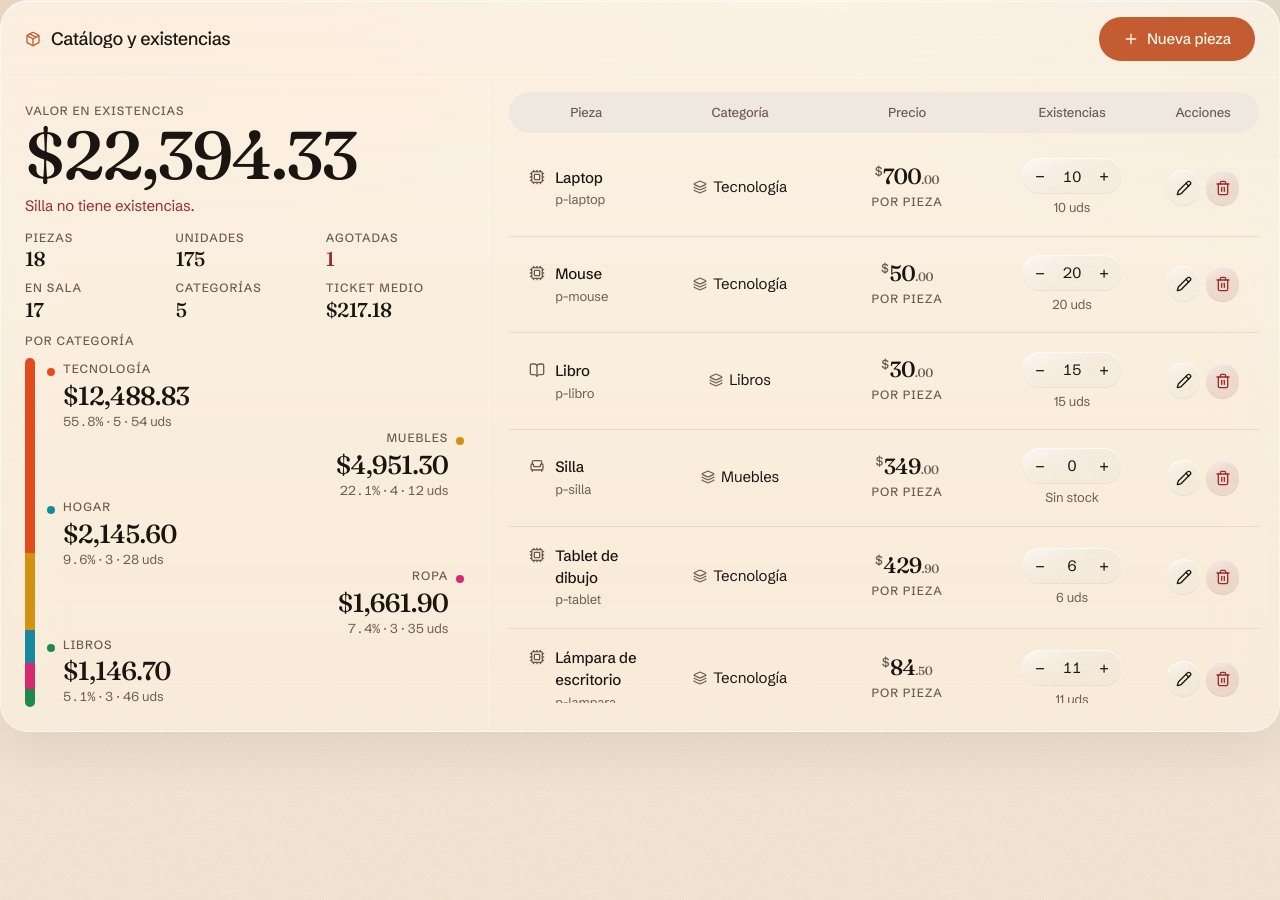
it: ProductDesk › edits name and price of an existing piece
Expected: the text "p-libro" is shown, top-left (555, 384), bottom-right (594, 402)
Click the button named "Editar Libro" at (1184, 381), box top-left (1167, 363), bottom-right (1200, 399)
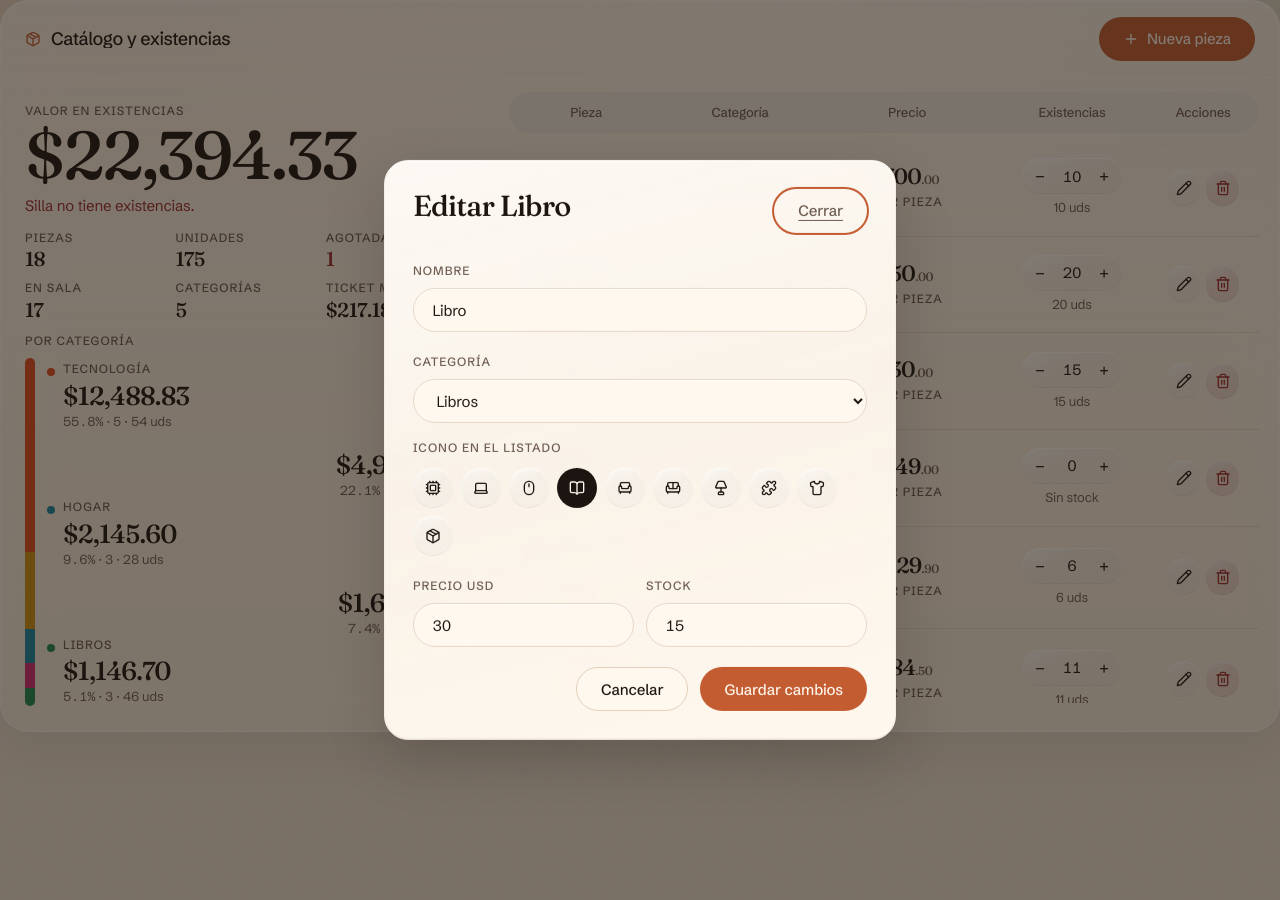
Replace the text in the field labelled "Nombre" with "Novela" at (640, 310), box top-left (413, 288), bottom-right (867, 332)
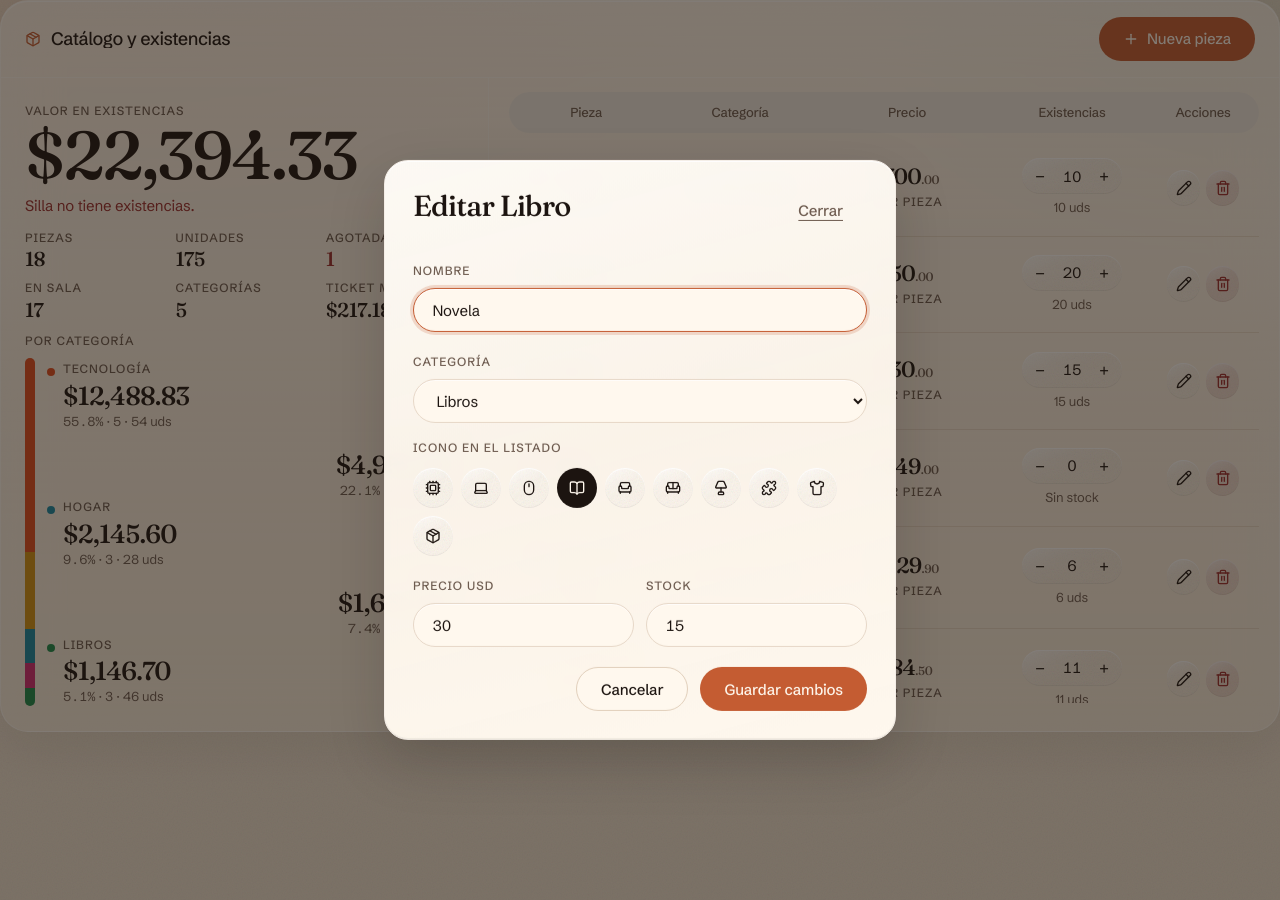
Click the button "Guardar cambios" at (784, 689), box top-left (700, 667), bottom-right (867, 711)
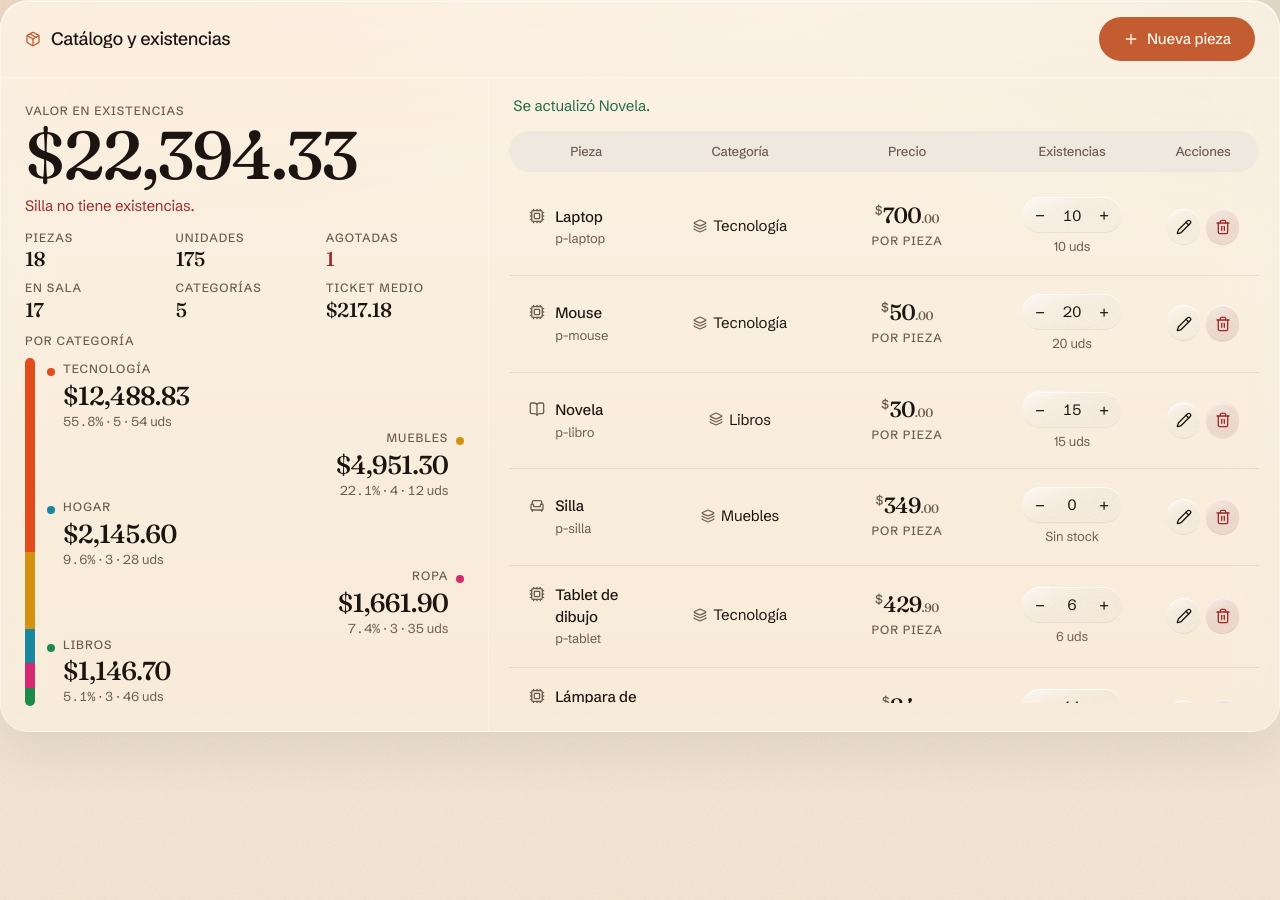
Expected: the text "p-libro" is shown, top-left (555, 424), bottom-right (594, 440)
Now the text "Novela" is shown, box top-left (555, 399), bottom-right (603, 421)
